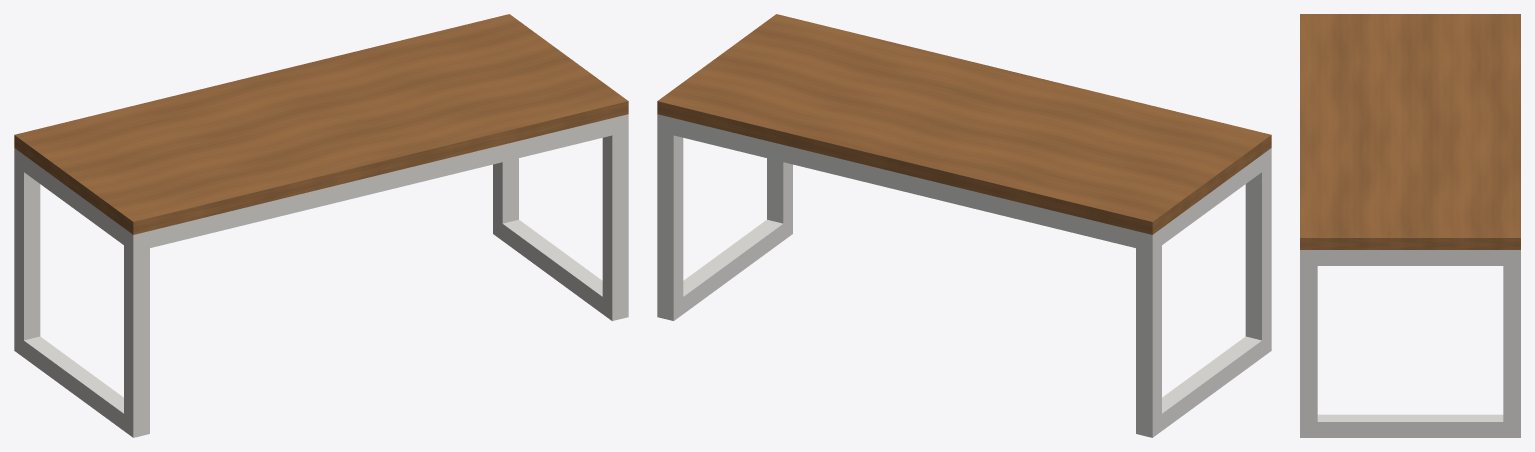
The model's file is mesa-living-nord-roble-blanco-4cm.glb.
3 renders of one model, left to right at view 1: azimuth 30°, elevation 25°; view 2: azimuth 150°, elevation 25°; view 3: azimuth 270°, elevation 25°, orthographic. The views are drawn at different scales.
Visible parts, largest first — view 1: Tapa de madera maciza 120 x 50 cm, Pata recta de hierro 4 x 4 cm (×4), Larguero longitudinal superior recto, Travesaño inferior recto (×2), Travesaño superior recto; view 2: Tapa de madera maciza 120 x 50 cm, Pata recta de hierro 4 x 4 cm (×4), Larguero longitudinal superior recto, Travesaño inferior recto (×2), Travesaño superior recto; view 3: Tapa de madera maciza 120 x 50 cm, Pata recta de hierro 4 x 4 cm (×2), Travesaño inferior recto, Travesaño superior recto.
Boxes of the visible parts, x1,y1,x2,y2 form: Tapa de madera maciza 120 x 50 cm: (14, 14, 628, 234); Pata recta de hierro 4 x 4 cm (×4): (14, 114, 628, 437); Larguero longitudinal superior recto: (150, 118, 612, 247); Travesaño inferior recto (×2): (19, 219, 602, 430); Travesaño superior recto: (19, 153, 128, 247); Tapa de madera maciza 120 x 50 cm: (657, 14, 1271, 234); Pata recta de hierro 4 x 4 cm (×4): (657, 114, 1271, 437); Larguero longitudinal superior recto: (673, 118, 1135, 247); Travesaño inferior recto (×2): (679, 219, 1266, 430); Travesaño superior recto: (1162, 154, 1266, 244); Tapa de madera maciza 120 x 50 cm: (1300, 14, 1520, 249); Pata recta de hierro 4 x 4 cm (×2): (1300, 250, 1520, 437); Travesaño inferior recto: (1309, 414, 1511, 437); Travesaño superior recto: (1309, 250, 1511, 265).
Bounding box in the file's own units: 1.2 × 0.5 × 0.5.
2 materials, 1 textured.
